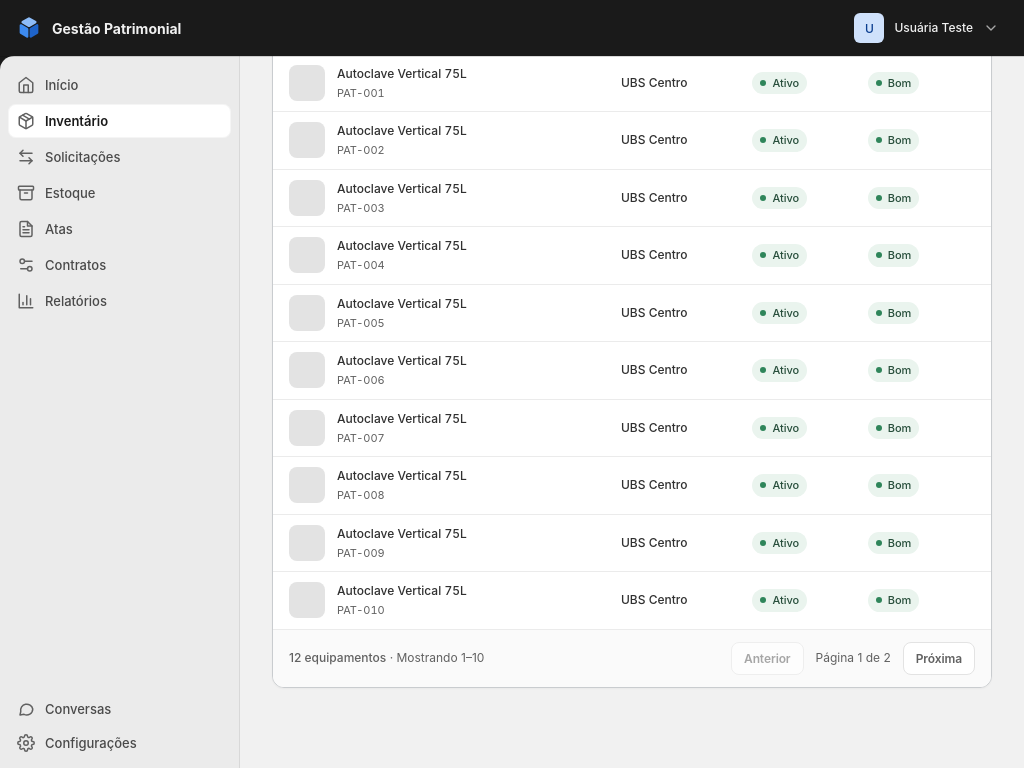
Test: pagina os resultados e reinicia a página ao filtrar por status
(page scrolled)
Expected: the text "PAT-001" is shown, [337,86,385,100]
Expected: the text "PAT-011" is not shown
Click the button with aria-label "Próxima página" at (939, 658), box [903,642,975,674]
(page scrolled)
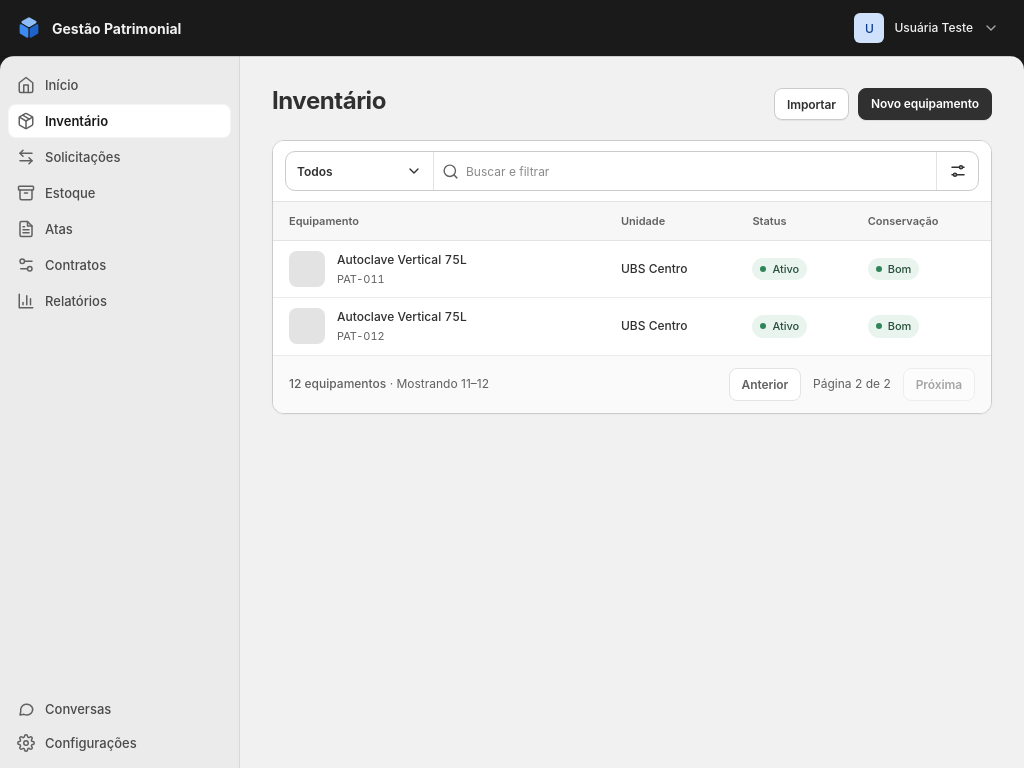
Now the text "PAT-011" is shown, box [337,272,385,286]
Now the text "PAT-001" is gone
Now the button with aria-label "Próxima página" is disabled, box [903,368,975,400]
Click the button "Todos" at (360, 171), box [286,152,433,190]
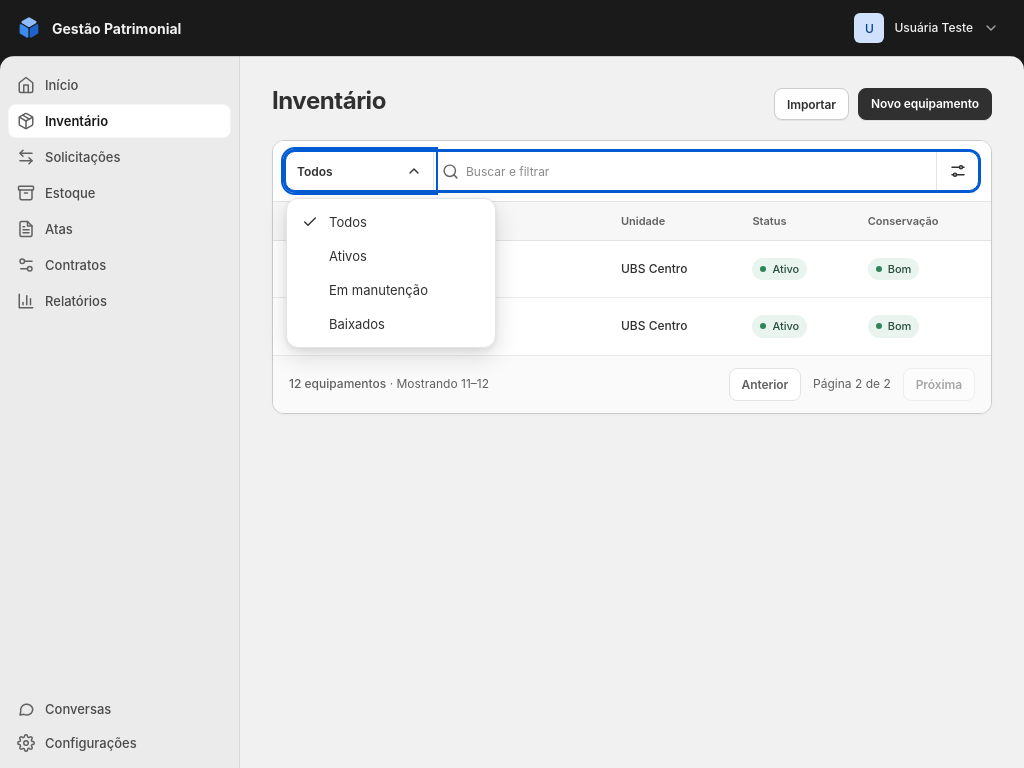
Click the menu item "Em manutenção" at (391, 290), box [293,273,489,307]
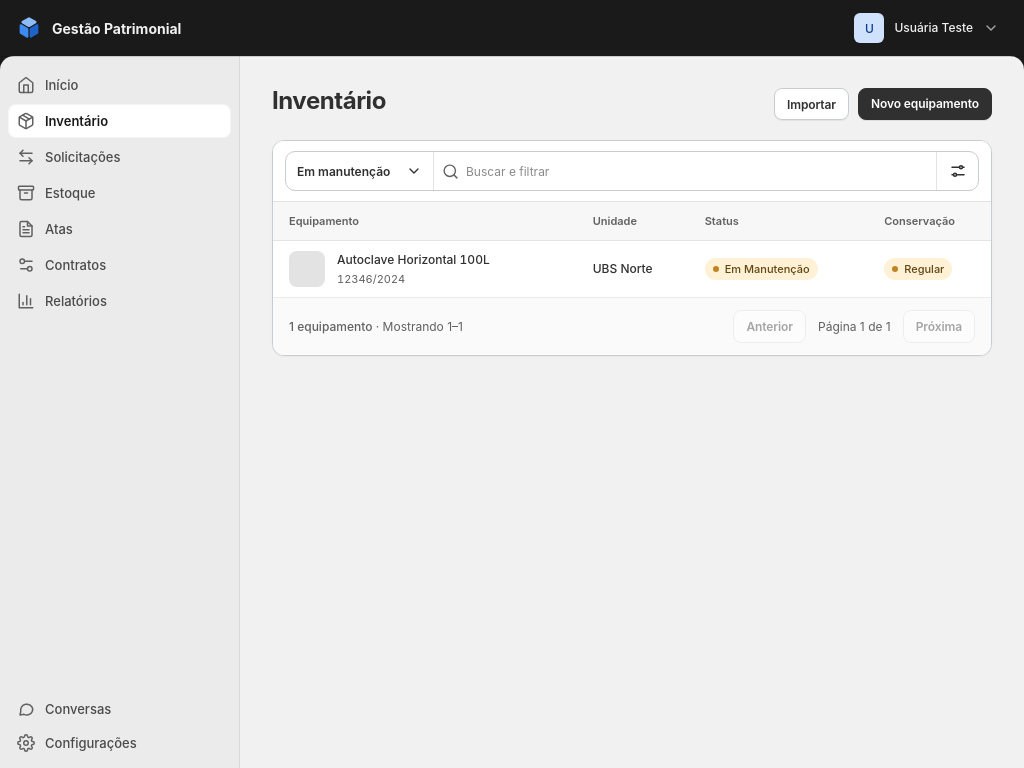
Now the text "12346/2024" is shown, box [337,272,405,286]
Now the text "Página 1 de 1" is shown, box [818,318,891,336]
Now the button "Em manutenção" is shown, box [286,152,433,190]
